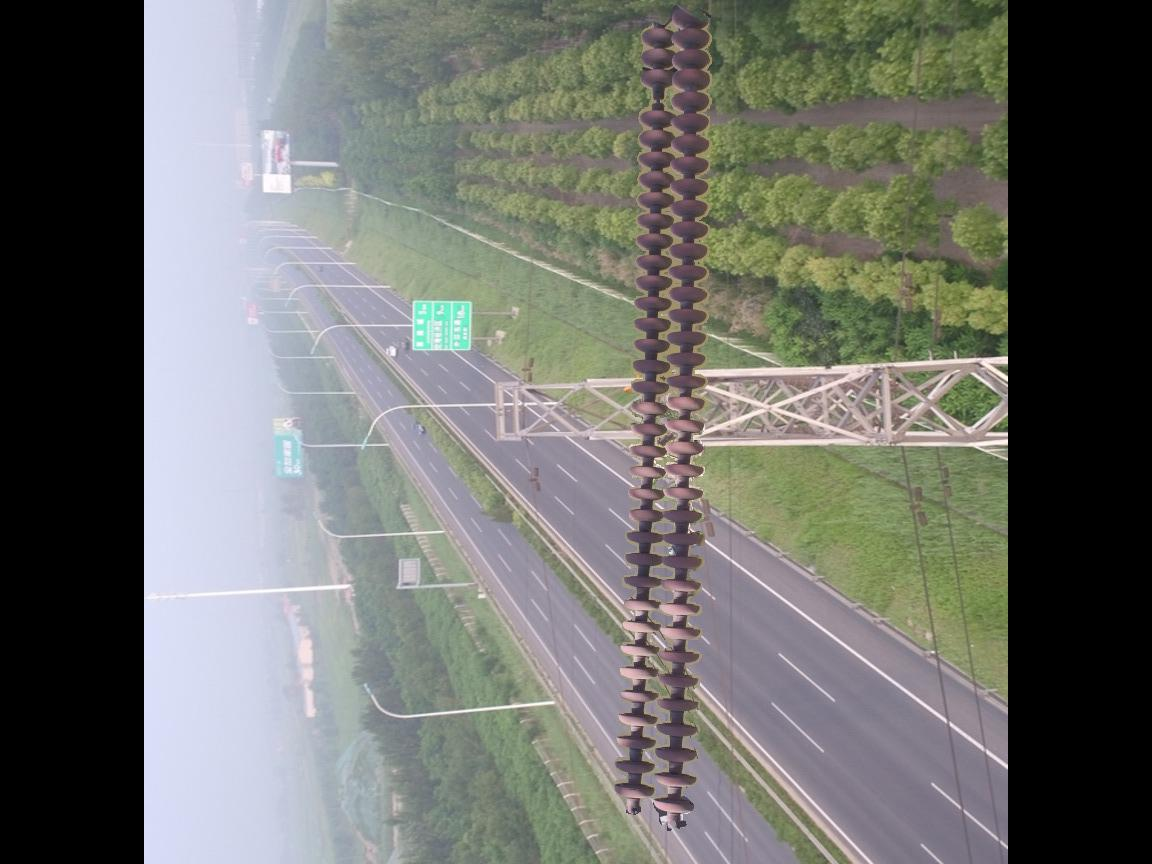insulator: (606, 1, 717, 826)
insulator_stringdrop: (635, 65, 676, 130)
